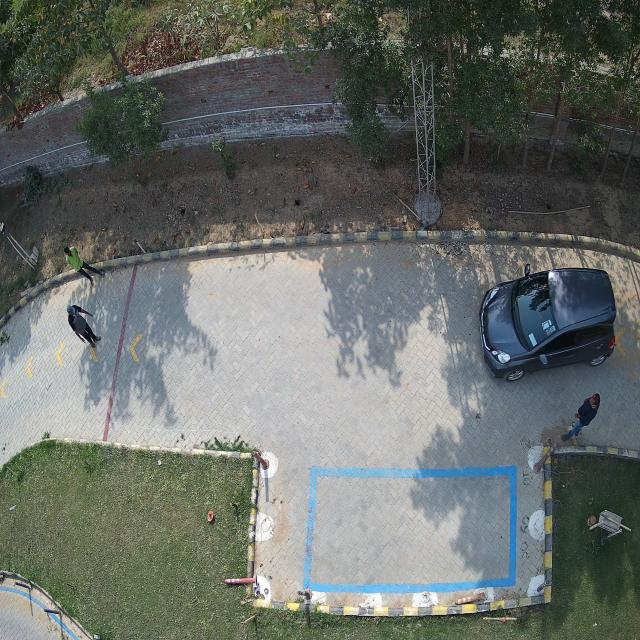car: (480, 265, 616, 382)
